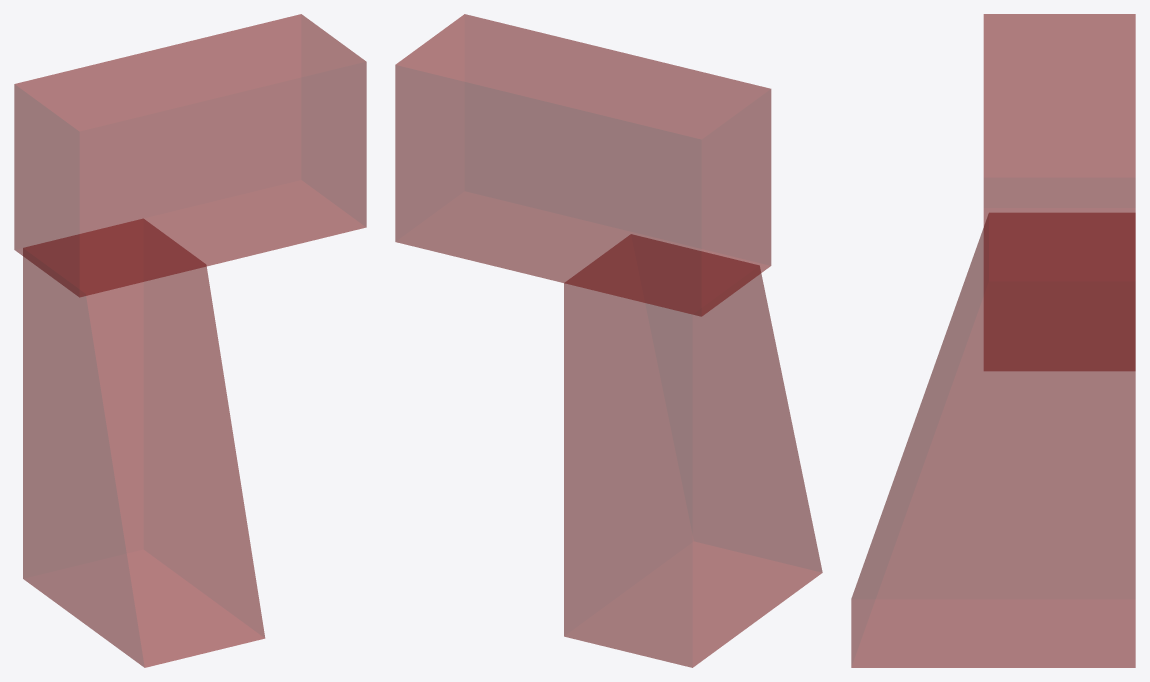
Rendered from SM_Bld_Tunnel_Straight_End_01_Collision.fbx.
3 views of the same model, side by side, from view 1: azimuth 30°, elevation 25°; view 2: azimuth 150°, elevation 25°; view 3: azimuth 270°, elevation 25° (orthographic). The views are drawn at different scales.
Visible parts, largest first — view 1: SM_Bld_Tunnel_Straight_End_01_Collision; view 2: SM_Bld_Tunnel_Straight_End_01_Collision; view 3: SM_Bld_Tunnel_Straight_End_01_Collision.
Part boxes in pixels (left/top/right/bottom): SM_Bld_Tunnel_Straight_End_01_Collision: left=14, top=14, right=366, bottom=667; SM_Bld_Tunnel_Straight_End_01_Collision: left=395, top=14, right=822, bottom=667; SM_Bld_Tunnel_Straight_End_01_Collision: left=851, top=14, right=1135, bottom=667.
Bounding box in the file's own units: 402 × 666 × 296.
